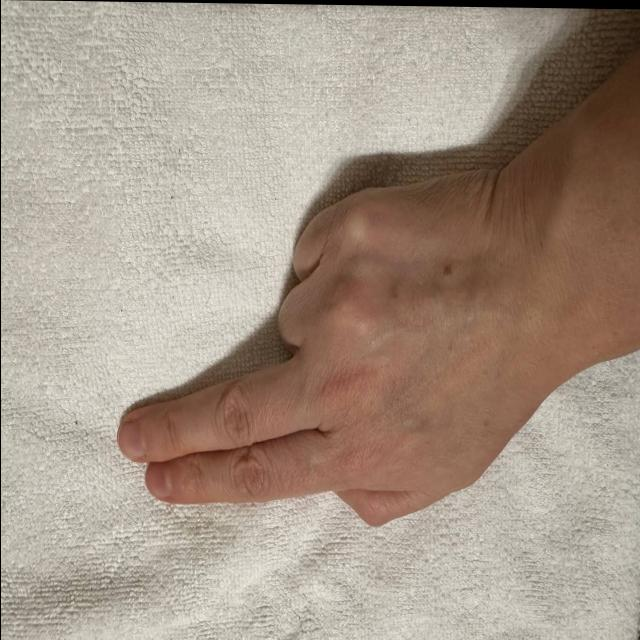p: (104, 130, 564, 558)
